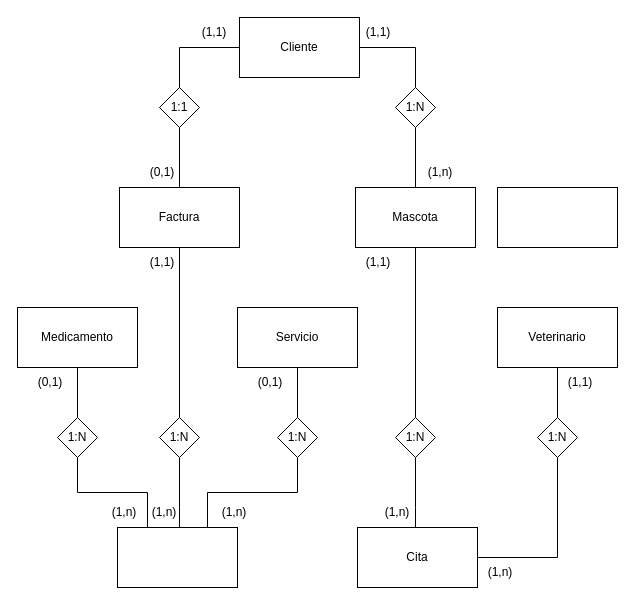
Image size: 635x605. Some labels were removed from this diagram. The shapes that lost their labels are listed below. From the top down, each one's centre as x and y in pixels, then its label:
At [557,217]: "Usuario".
At [177,557]: "DetalleFactura".
